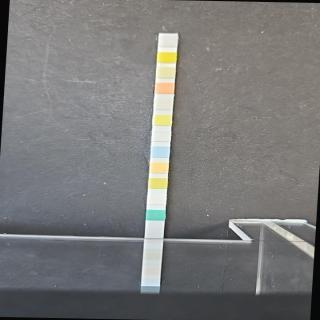mark: (146, 209, 164, 221), (150, 161, 168, 173), (156, 82, 174, 94), (158, 35, 176, 47), (155, 97, 172, 109), (157, 66, 174, 78), (148, 194, 166, 205), (158, 52, 176, 63), (152, 146, 168, 158), (153, 129, 169, 141), (149, 178, 167, 188), (154, 114, 170, 125)
